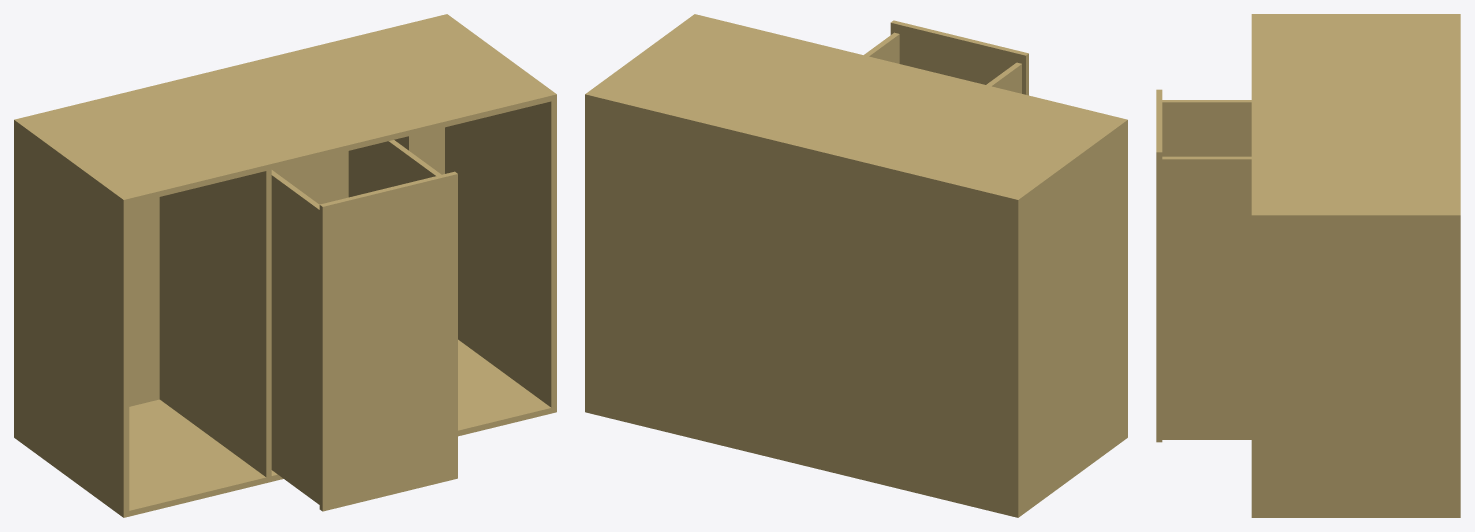
The model's file is meuble_69130f4f0388e.glb.
3 views of the same model, side by side, from view 1: azimuth 30°, elevation 25°; view 2: azimuth 150°, elevation 25°; view 3: azimuth 270°, elevation 25° (orthographic). The views are drawn at different scales.
Parts seen in each view (by area): view 1: world; view 2: world; view 3: world.
Boxes of the visible parts, x1,y1,x2,y2 form: world: (14,14,556,517); world: (585,14,1127,517); world: (1156,14,1460,517).
Size of the model in its own units: 1.5 by 1.05 by 0.958.
